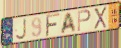9: (31, 17, 43, 38)
A: (60, 11, 77, 35)
F: (45, 13, 61, 38)
J: (15, 17, 27, 41)
P: (77, 8, 92, 32)
X: (93, 6, 107, 31)
